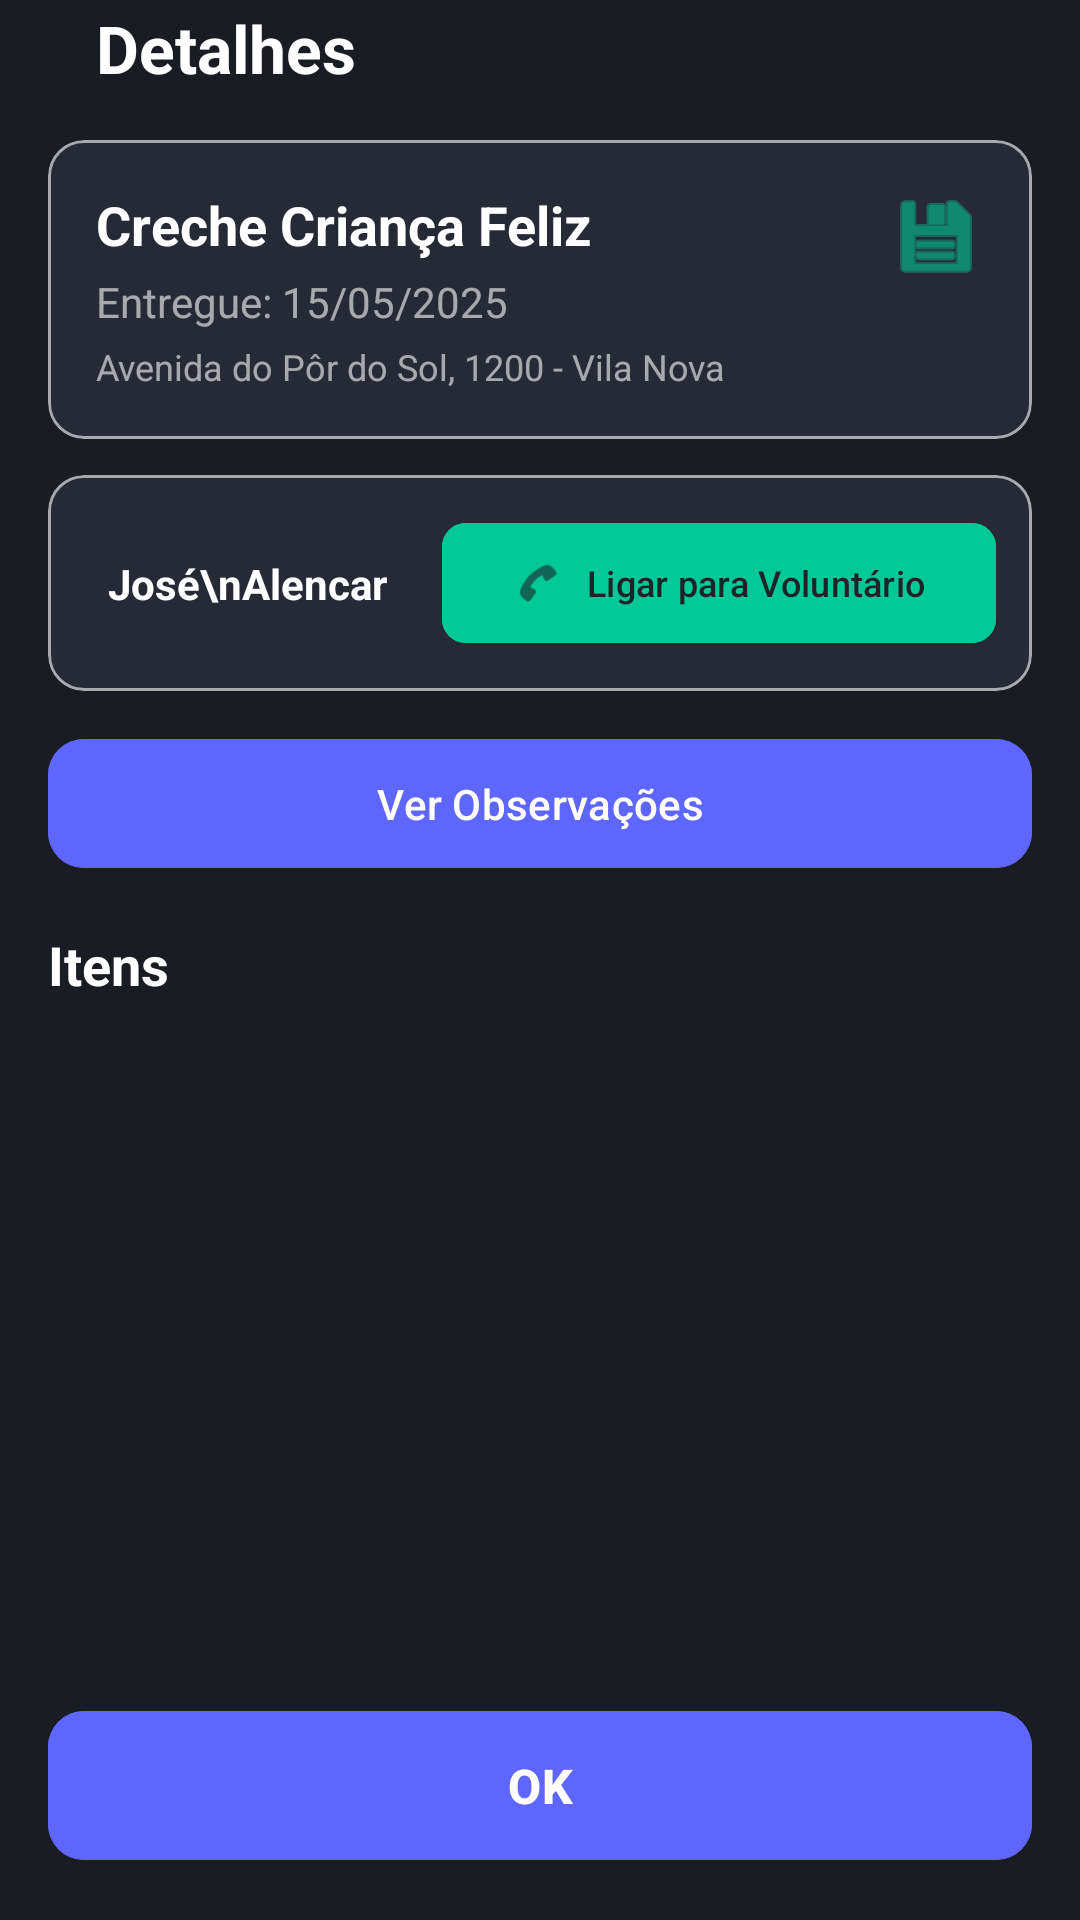

Screen size 1080*1920. Icon name, then its box in pixels as [x1,y1,x2,y2]:
save: [900,200,972,273]
